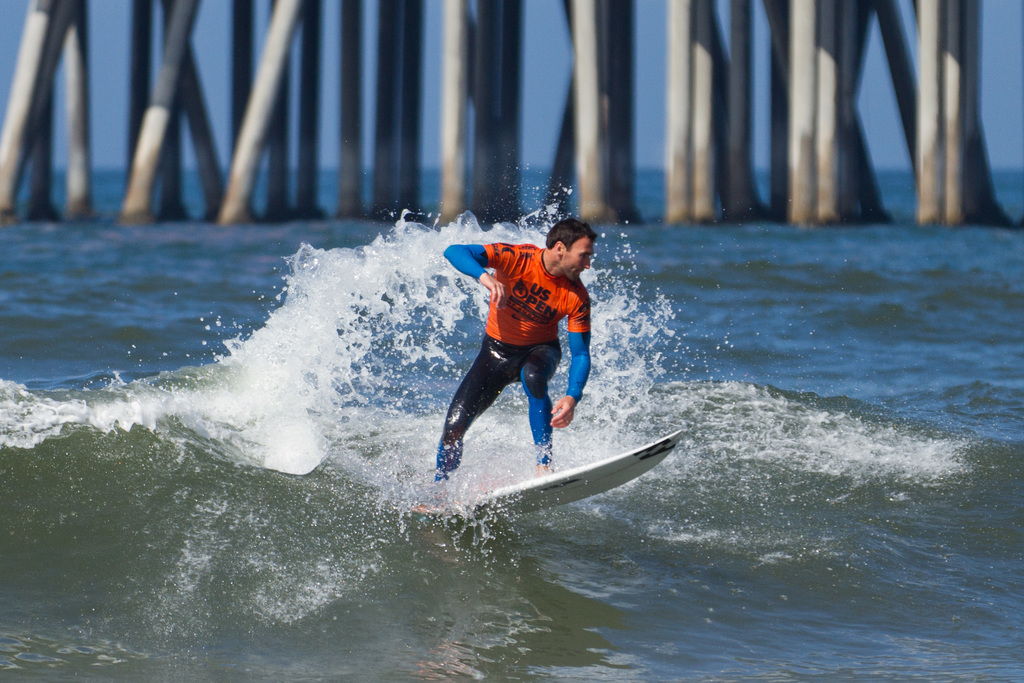Person: (433, 217, 598, 482)
